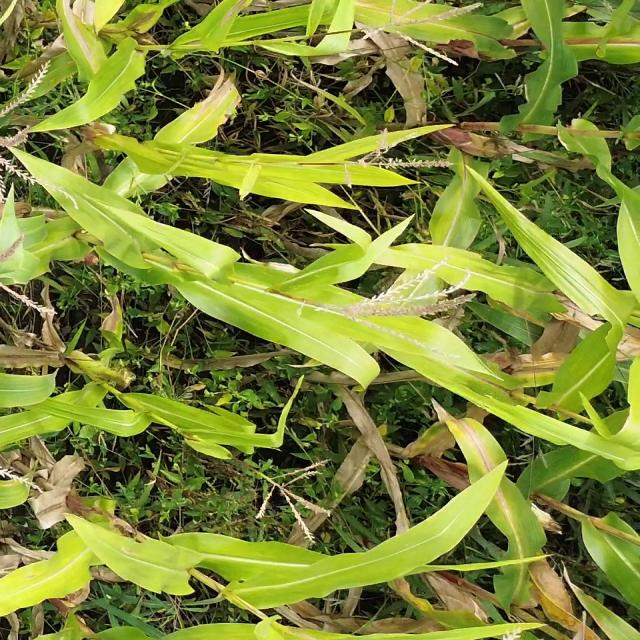northern-leaf-blight: (189, 78, 236, 130), (114, 538, 163, 583)
southern-leaf-blight: (280, 258, 345, 295)
